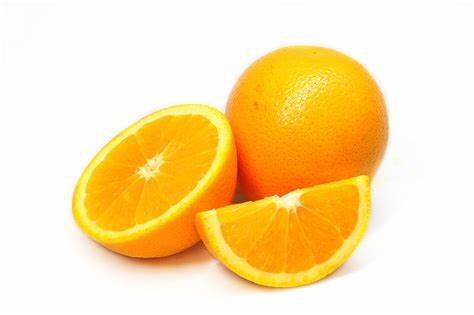Orange: (223, 40, 387, 215)
